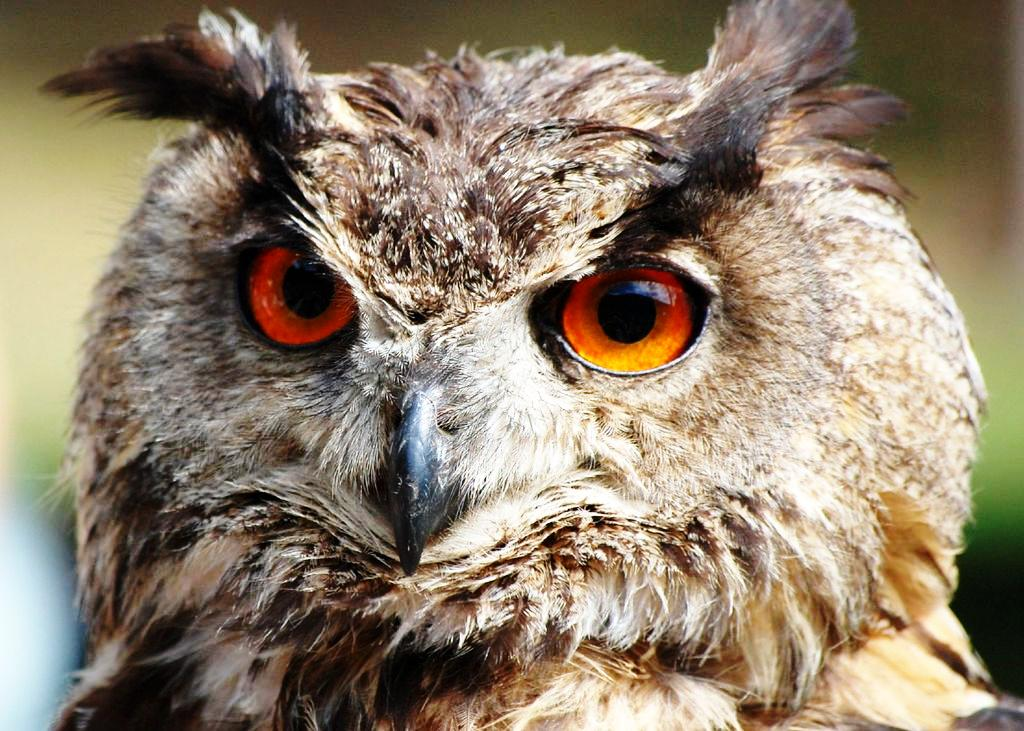Owl: (30, 0, 1024, 730)
